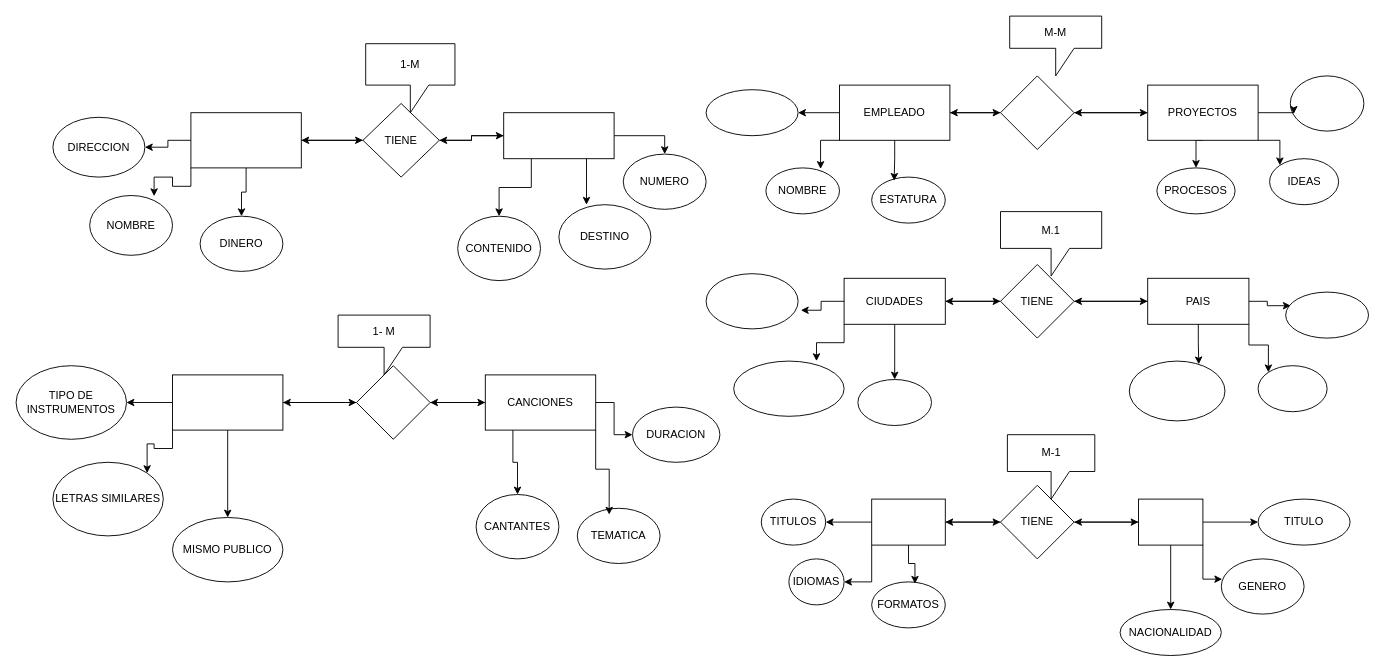
This 1385x672 diagram has some shape labels left out. The shapes that lost their labels are listed below. From the top down, each one's centre as x and y in pixels, then its label:
pixel 751 112: NUMERO ID
pixel 1037 112: PARTICIPA
pixel 1326 103: FECHAS
pixel 245 140: CLIENTE
pixel 558 135: PEDIDOS
pixel 751 301: DIRECCIONES
pixel 1326 314: IDEOLOGIA
pixel 227 402: GENRO MUSICAL
pixel 393 402: HAY
pixel 788 388: RASGOS DE LAS PERSONAS
pixel 894 402: CULTURA
pixel 1176 390: COORDENADAS
pixel 1292 388: PAISAJES
pixel 908 521: LIBROS
pixel 1170 521: AUTOR
